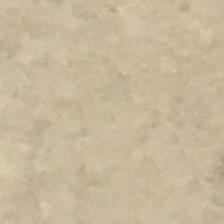Non_Crack: (9, 7, 207, 215)
